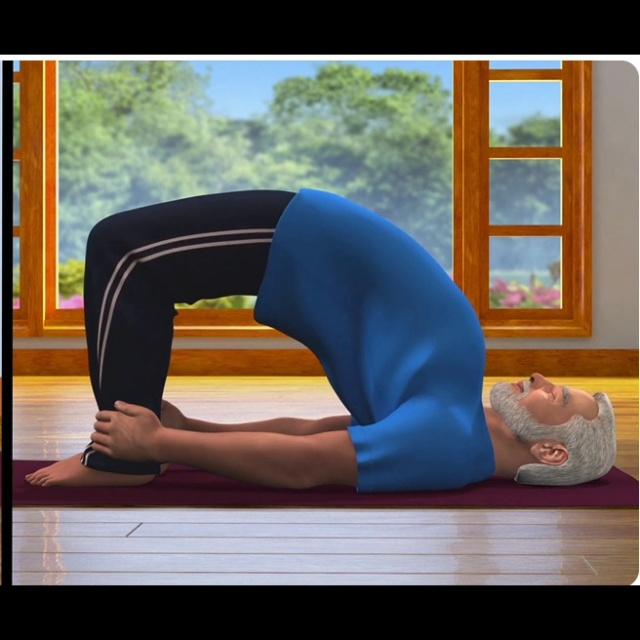Bridge_Pose: (17, 178, 621, 505)
